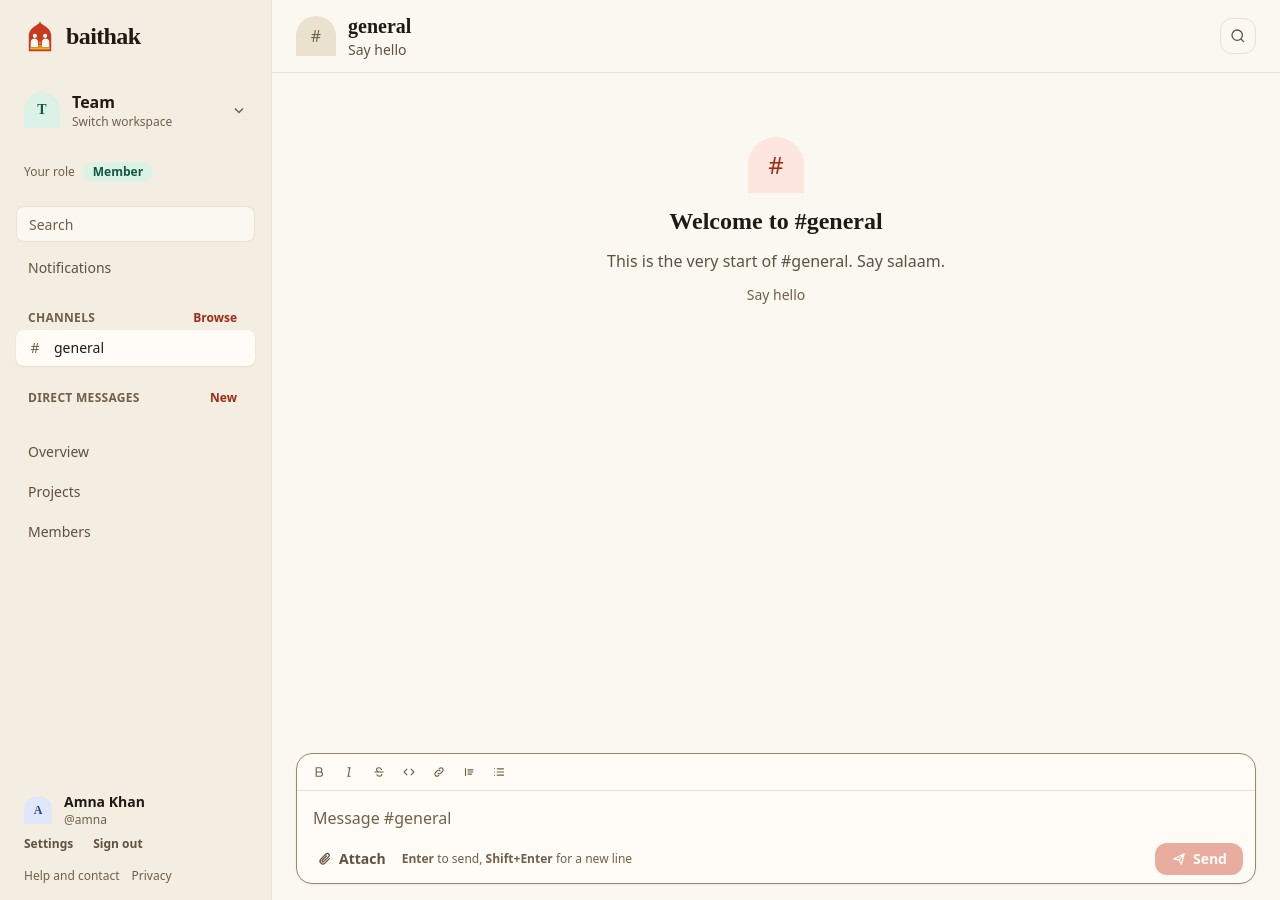
Test: mentions › typing @ offers people, and Enter picks one instead of sending
Type "chai @" into the dropdown labelled "Message #general".
click(776, 819); type("chai @")  # box [305, 799, 1247, 839]
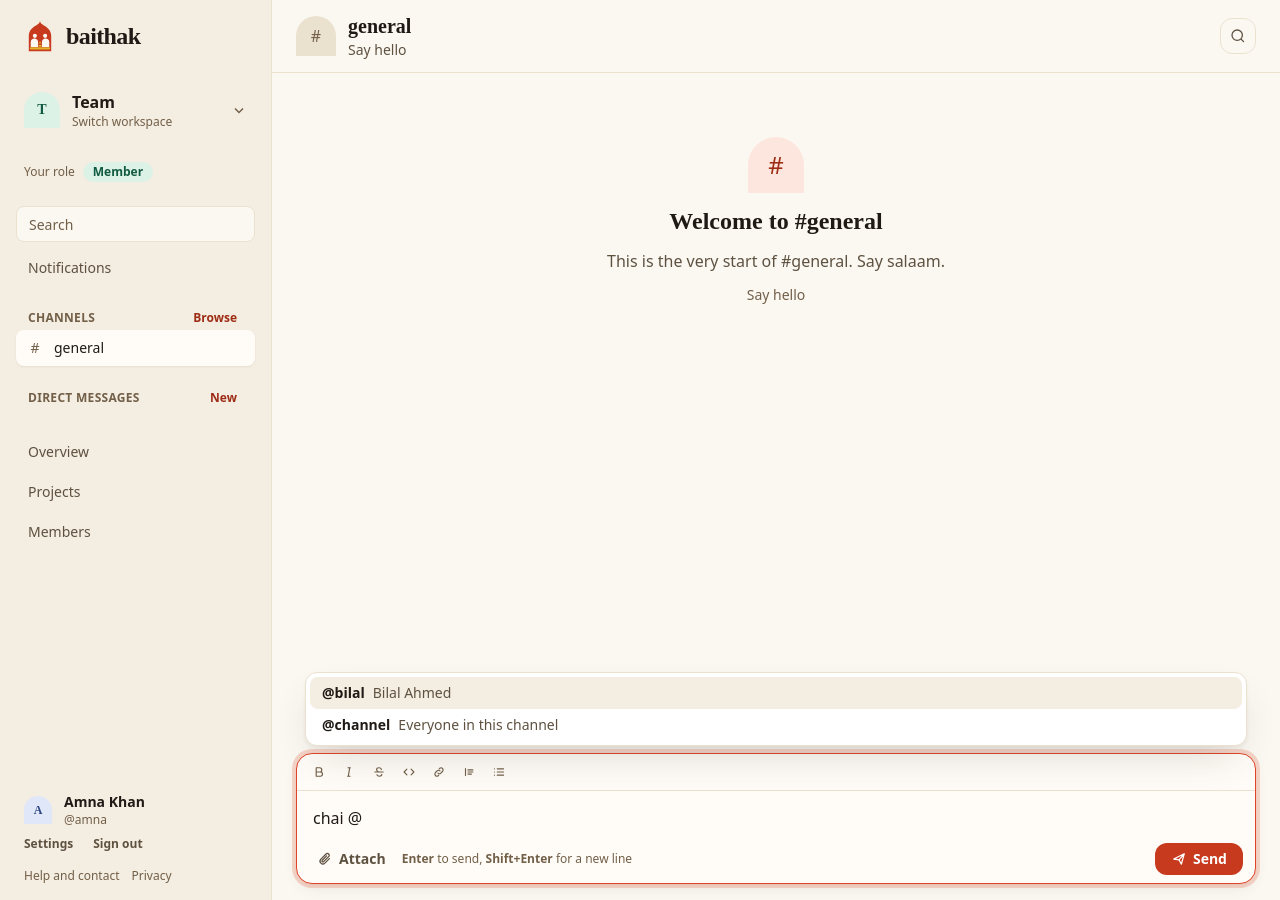
Result: the options read "@bilalBilal Ahmed", "@channelEveryone in this channel", in this order at [310, 677, 1242, 709]; [322, 715, 558, 734]
Type "bi" into the dropdown named "Message #general".
click(776, 819); type("bi")  # box [305, 799, 1247, 839]
Then press Enter
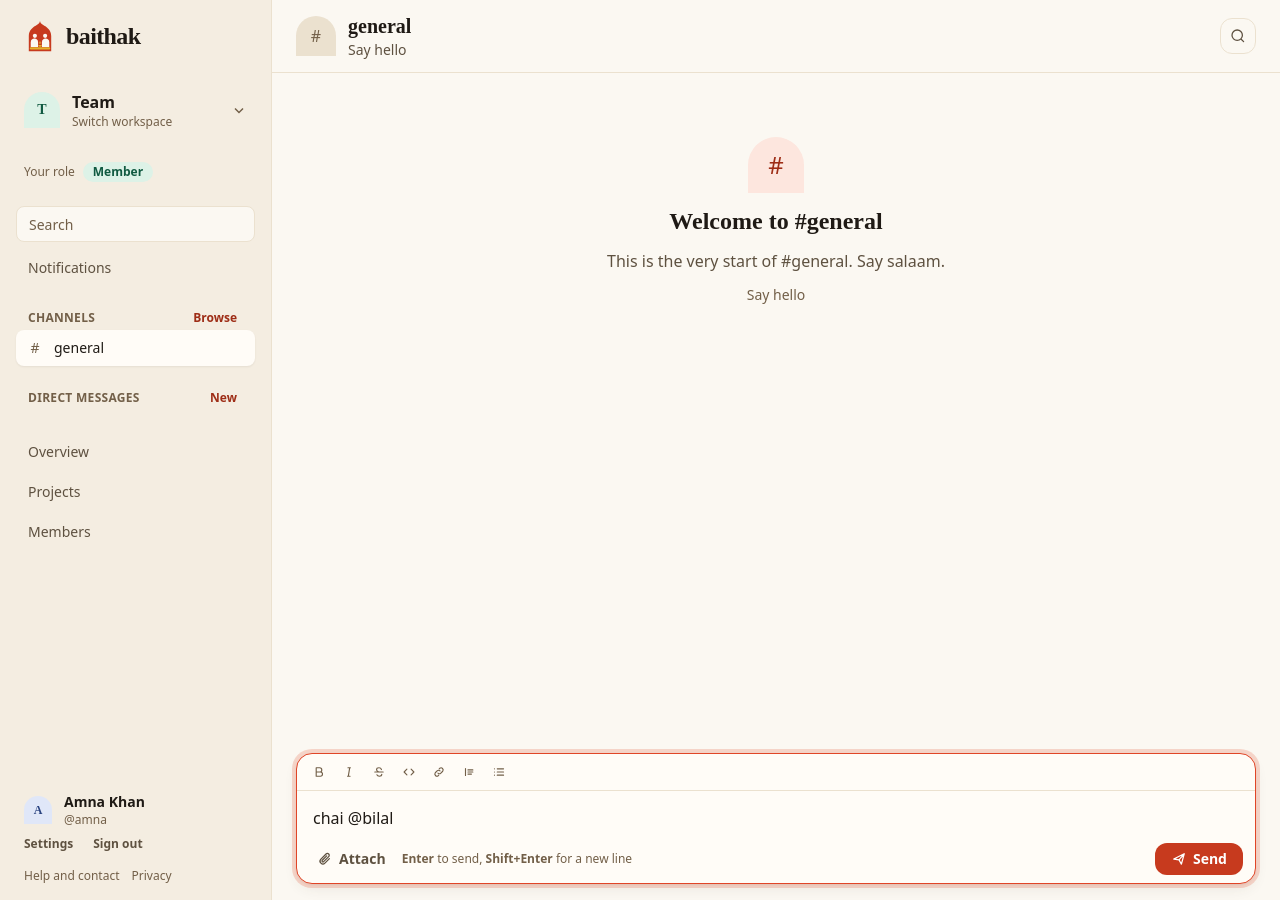
Result: the dropdown named "Message #general" holds "chai @bilal " at [305, 799, 1247, 839]
Result: the list "@bilal Bilal Ahmed @channel Everyone in this channel" is gone
